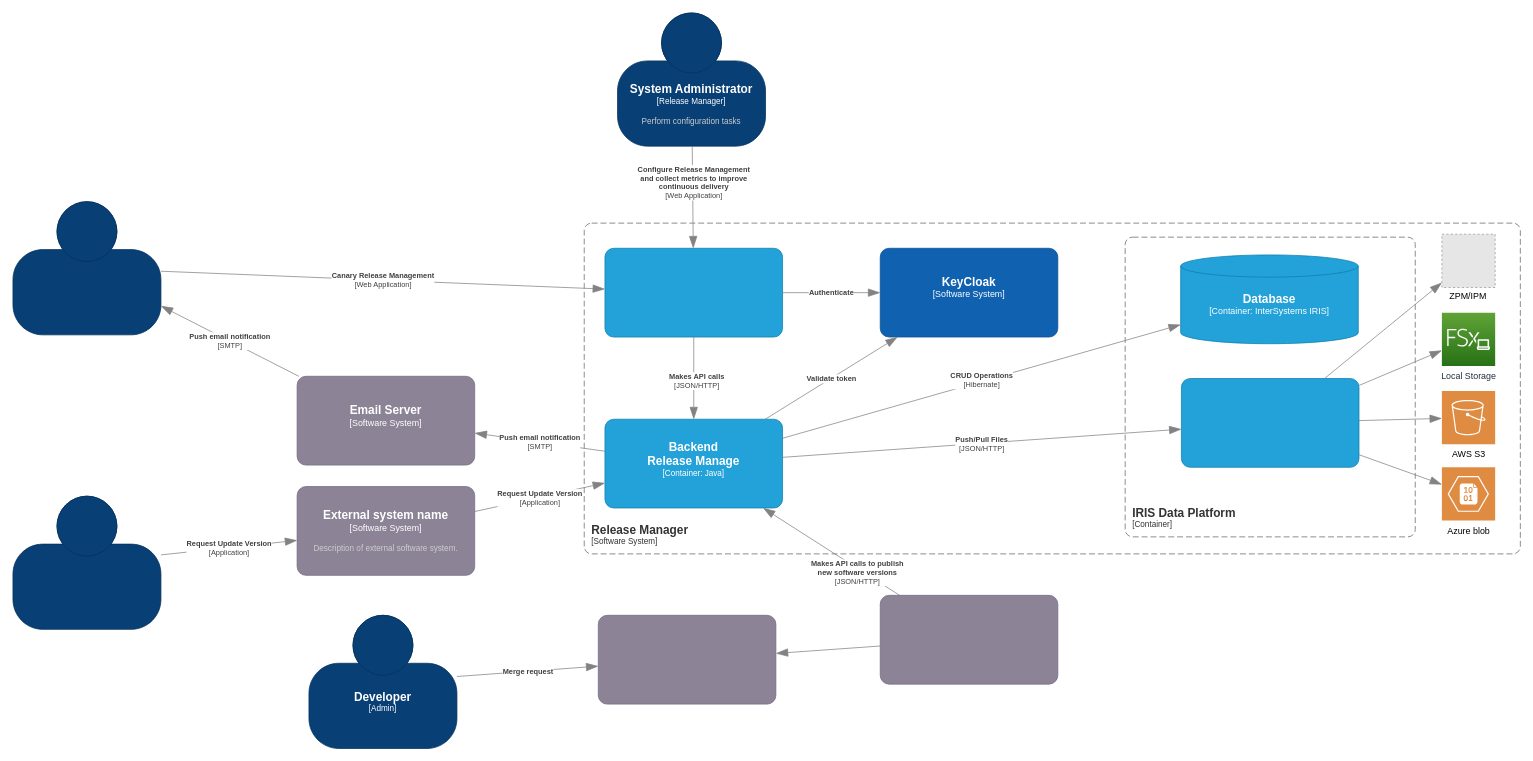
Image size: 1533x761. Some labels were removed from this diagram. Grey dashed boxes stand in for pictures. Each missing label, with the centre of its shape:
CI/CD Tool [CI/CD] Jenkins, Gitlab-CI, Github-Actions, etc.: the point at 968,639
Frontend Release Manager [Container: Angular]: the point at 693,292
Git (Hub/Lab/etc) [SCM] Git Repository: the point at 687,659
Helpdesk [Release Manager] Perform Canary Release Management: the point at 86,268
Interoperability [Container: InterSystems IRIS]: the point at 1270,422
User [End User] Software House User: the point at 86,562
